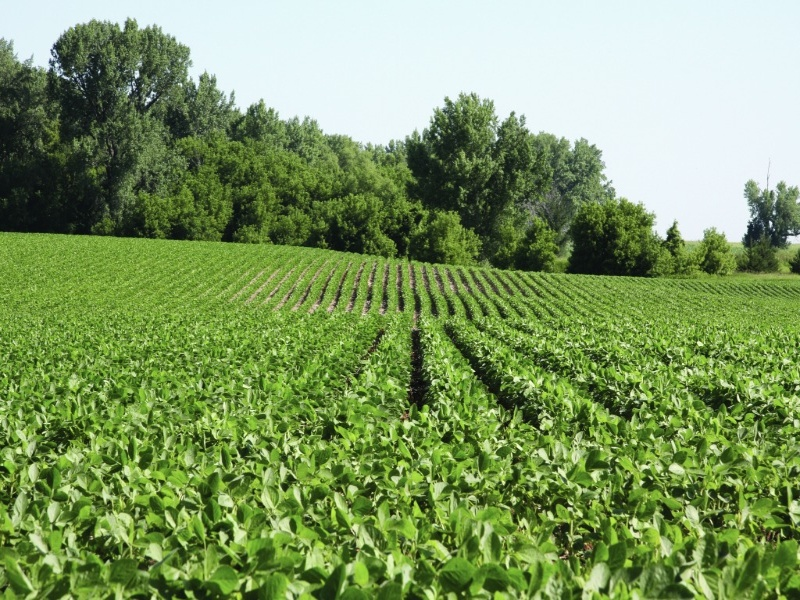soyabean: (1, 408, 797, 596)
